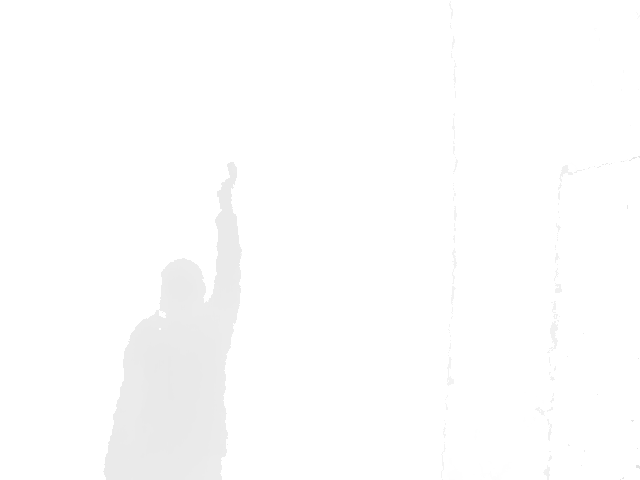hand: (215, 160, 239, 205)
head: (160, 258, 207, 313)
person: (102, 161, 244, 480)
